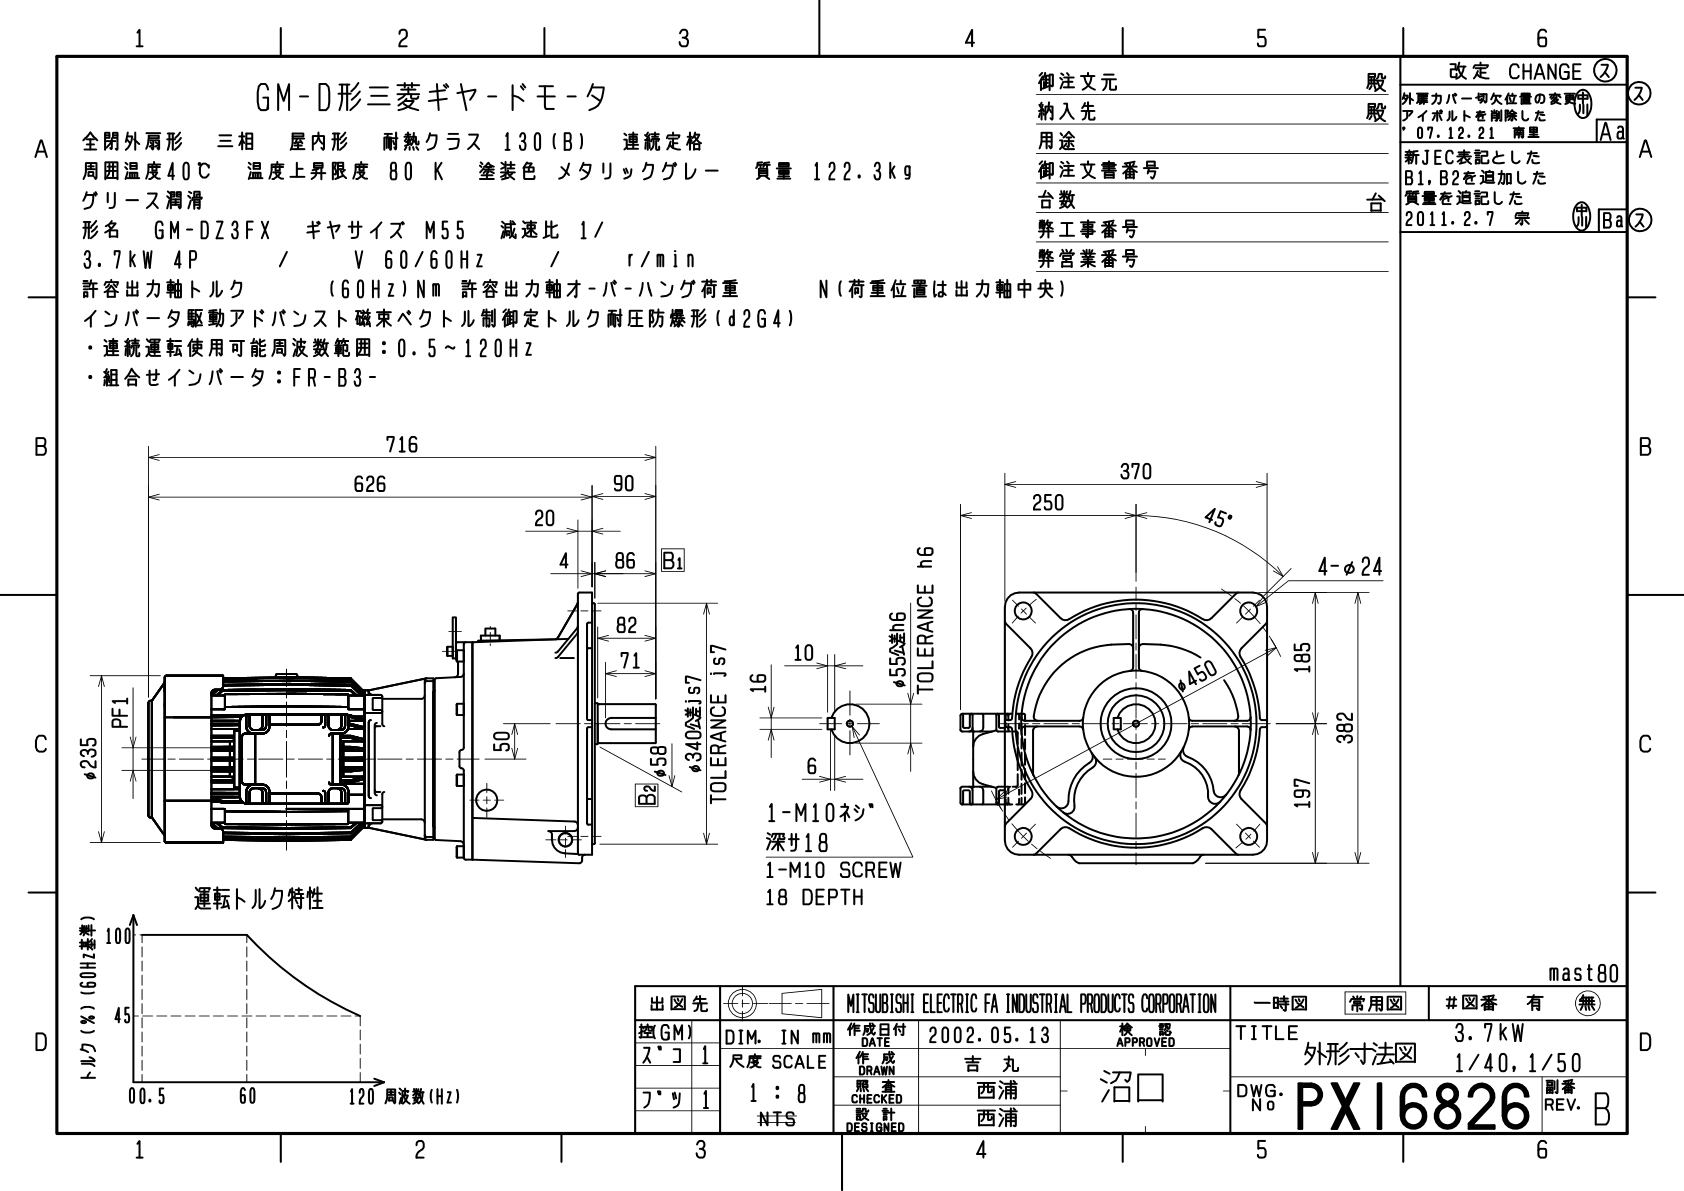GM_D_制御屋内_三相_フランジ: (67, 406, 1389, 962)
